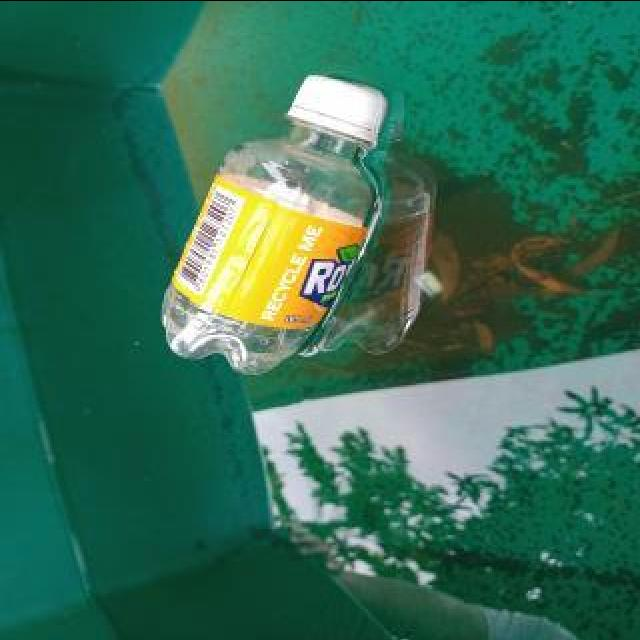Bottle: (153, 63, 401, 380)
